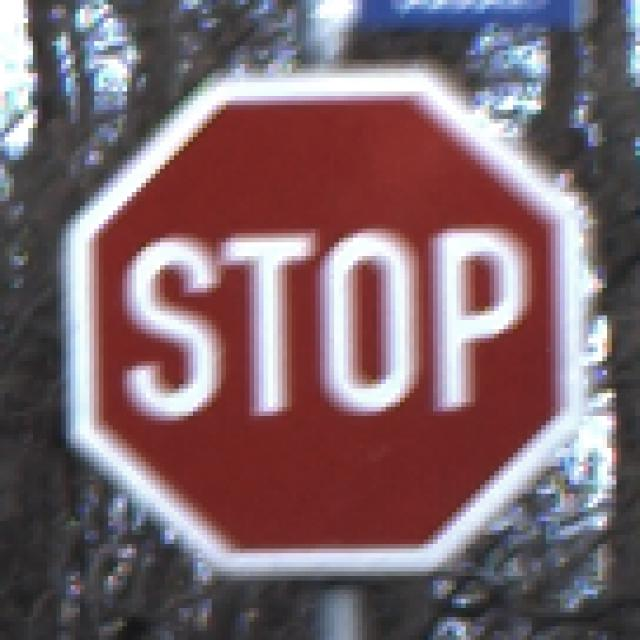STOP: (53, 61, 589, 586)
